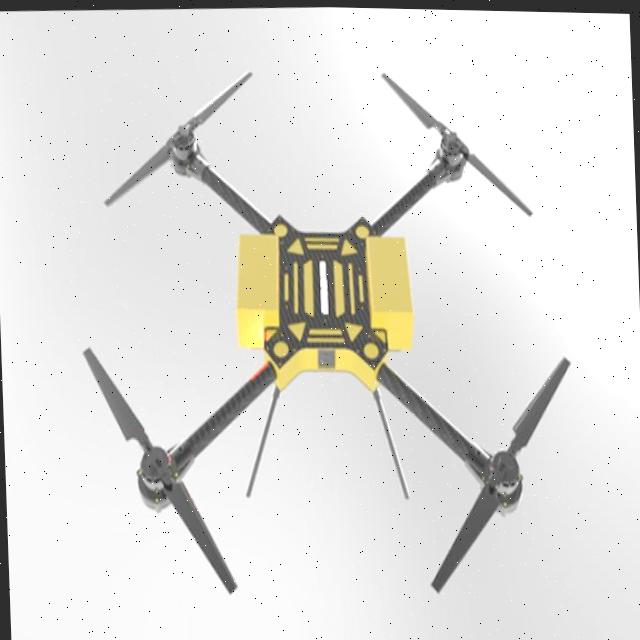drone: (72, 39, 582, 623)
